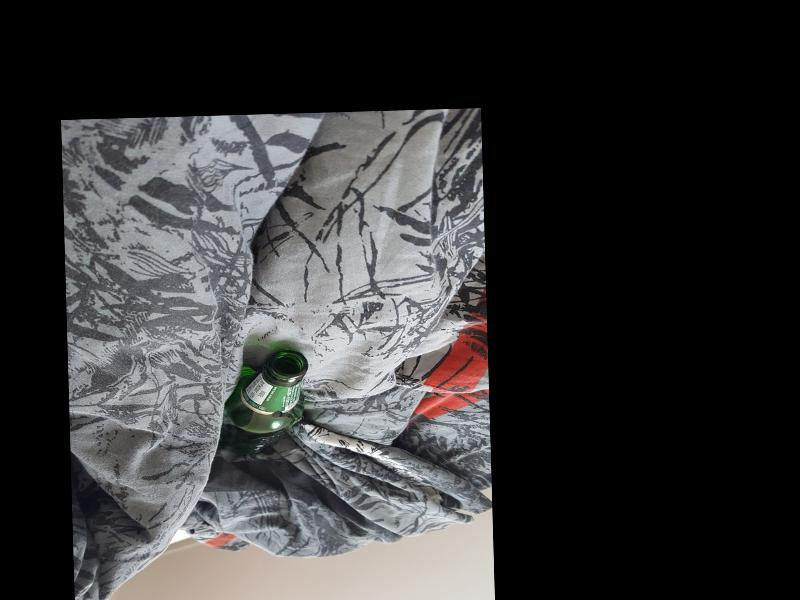Beer: (223, 349, 307, 453)
